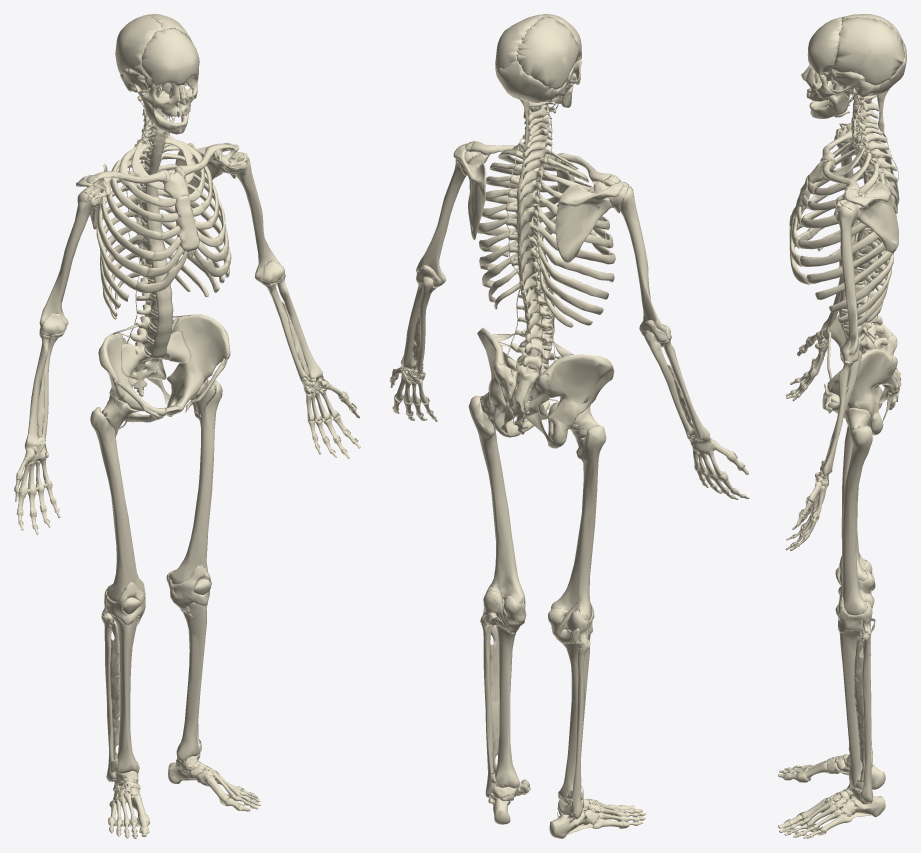
File: skeletal.glb
3 views of the same model, side by side, from view 1: azimuth 30°, elevation 25°; view 2: azimuth 150°, elevation 25°; view 3: azimuth 270°, elevation 25° (orthographic). The views are drawn at different scales.
Visible parts, largest first — view 1: FJ3288, FJ3365, FJ3259, FJ3200, FJ3282, ZA934E4140, FJ3387, FJ3152, FJ3368, FJ3380, FJ3262, FJ1392 (+13 smaller); view 2: FJ3152, FJ3259, FJ3365, FJ3380, FJ3384, FJ3282, FJ3368, FJ3387, FJ3288, FJ3262, FJ3279, FJ3309 (+15 smaller); view 3: FJ3274, FJ3259, FJ3288, FJ3279, FJ3282, FJ3262, FJ3260, FJ3200, FJ1392M, ZA2398DFE8, FJ3277, FJ3281 (+28 smaller).
Boxes of the visible parts, x1=… form: FJ3288: x1=167, y1=314, x2=230, y2=416; FJ3365: x1=90, y1=407, x2=144, y2=601; FJ3259: x1=168, y1=380, x2=222, y2=584; FJ3200: x1=141, y1=27, x2=199, y2=87; FJ3282: x1=176, y1=603, x2=207, y2=761; ZA934E4140: x1=145, y1=108, x2=173, y2=360; FJ3387: x1=110, y1=614, x2=139, y2=773; FJ3152: x1=98, y1=333, x2=167, y2=422; FJ3368: x1=39, y1=192, x2=98, y2=325; FJ3380: x1=115, y1=15, x2=164, y2=76; FJ3262: x1=236, y1=153, x2=280, y2=280; FJ1392: x1=110, y1=622, x2=120, y2=759; FJ3152: x1=543, y1=354, x2=613, y2=448; FJ3259: x1=468, y1=395, x2=524, y2=604; FJ3365: x1=551, y1=425, x2=606, y2=620; FJ3380: x1=516, y1=16, x2=579, y2=90; FJ3384: x1=555, y1=180, x2=623, y2=262; FJ3282: x1=495, y1=625, x2=519, y2=788; FJ3368: x1=620, y1=187, x2=666, y2=333; FJ3387: x1=558, y1=634, x2=590, y2=803; FJ3288: x1=477, y1=327, x2=549, y2=437; FJ3262: x1=416, y1=158, x2=465, y2=284; FJ3279: x1=453, y1=143, x2=488, y2=239; FJ3309: x1=496, y1=61, x2=555, y2=102; FJ3274: x1=832, y1=17, x2=905, y2=85; FJ3259: x1=841, y1=425, x2=872, y2=615; FJ3288: x1=827, y1=348, x2=892, y2=435; FJ3279: x1=836, y1=181, x2=898, y2=253; FJ3282: x1=839, y1=630, x2=863, y2=788; FJ3262: x1=834, y1=205, x2=858, y2=354; FJ3260: x1=860, y1=634, x2=873, y2=802; FJ3200: x1=807, y1=17, x2=842, y2=75; FJ1392M: x1=854, y1=639, x2=864, y2=780; ZA2398DFE8: x1=838, y1=590, x2=874, y2=637; FJ3277: x1=820, y1=362, x2=850, y2=476; FJ3281: x1=830, y1=71, x2=879, y2=99.
Size of the model in its own units: 0.7937 by 1.71 by 0.254.
